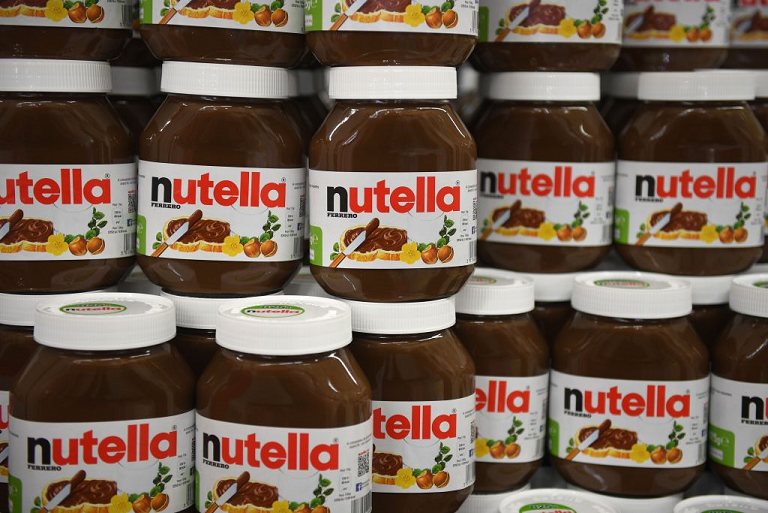nutella: (8, 290, 197, 513), (135, 59, 309, 297), (309, 65, 477, 302), (194, 294, 374, 512), (550, 273, 711, 497), (1, 59, 136, 294), (616, 71, 765, 276), (475, 72, 615, 272), (353, 295, 473, 513)
